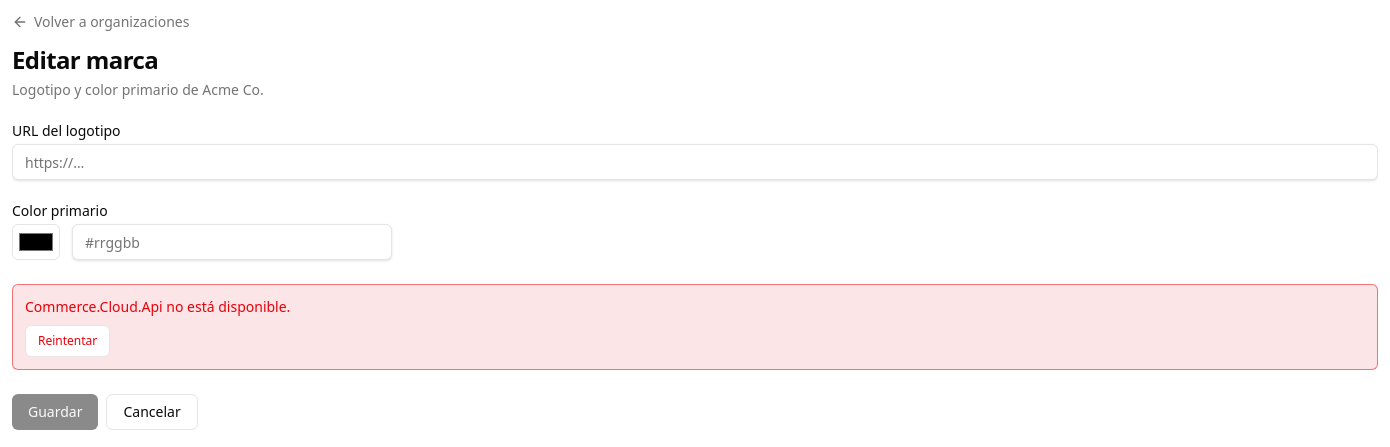
Test: OrganizationBrandingForm › re-enables Save after a successful Retry
Click the button "Reintentar" at (68, 341), box [25, 325, 110, 357]
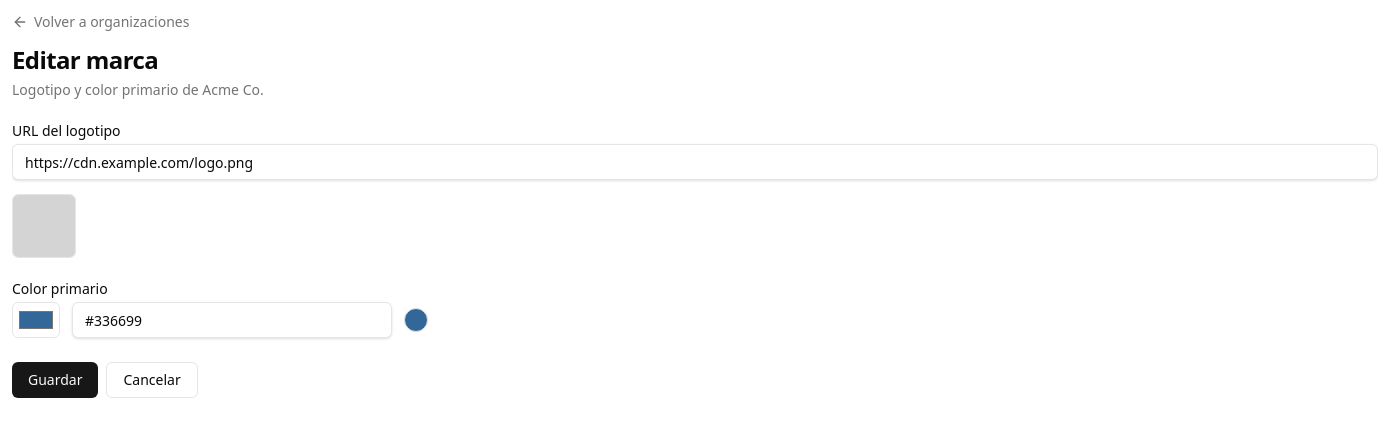
Expected: the field labelled "URL del logotipo" holds "https://cdn.example.com/logo.png", [12, 144, 1378, 180]
Expected: the button "Reintentar" is gone
Expected: the button "Guardar" is enabled, [12, 362, 98, 398]
